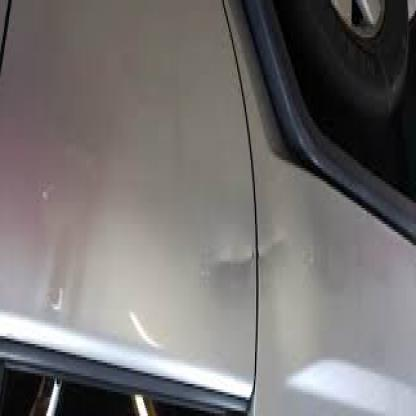dent: (219, 226, 284, 274)
